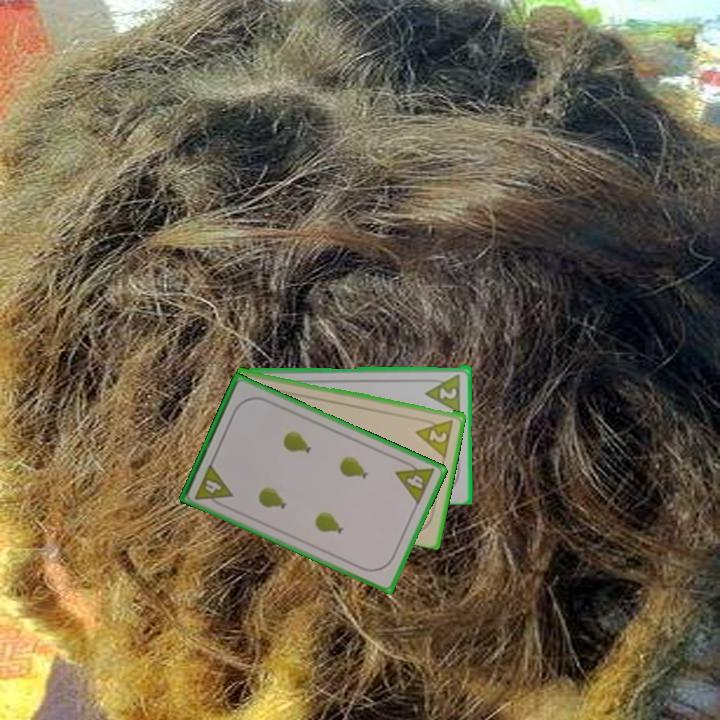2p: (413, 416, 457, 459), (422, 370, 463, 413)
4p: (392, 455, 438, 507), (191, 460, 235, 511)
